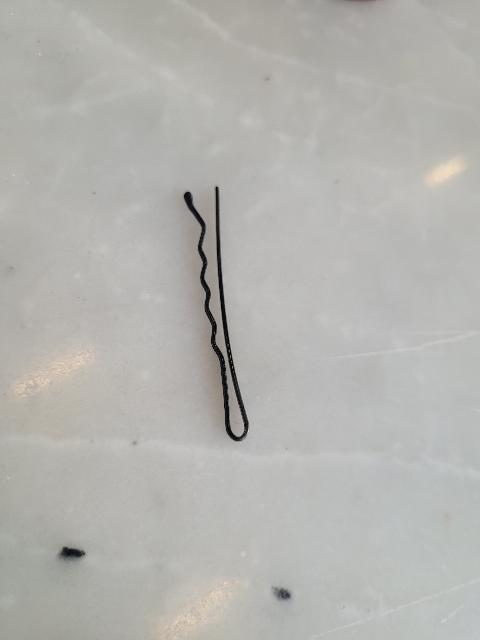Metal: (183, 183, 252, 443)
